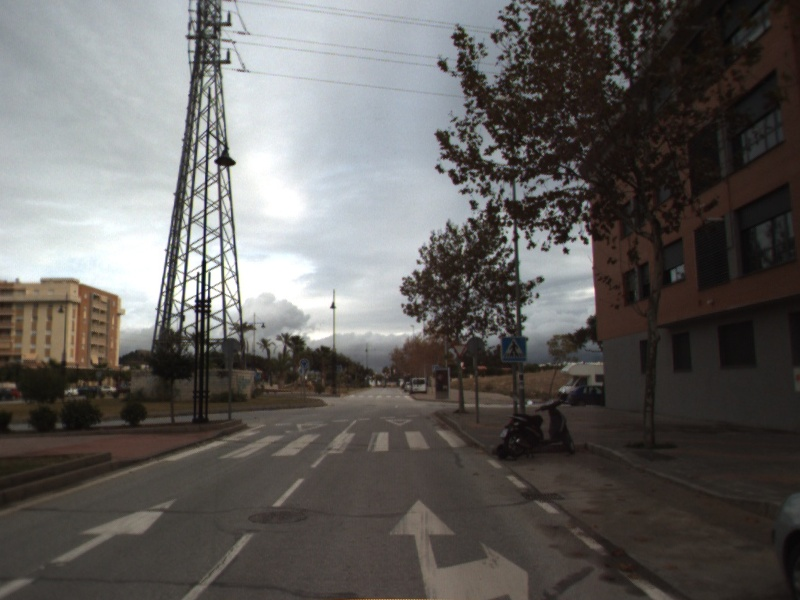STRAIGHT: (1, 496, 179, 599)
STRAIGHT_RIGHT: (386, 497, 531, 600)
